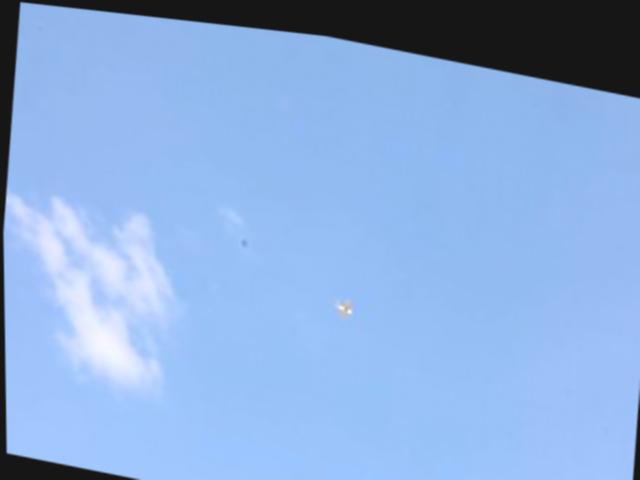uav: (330, 285, 357, 314)
